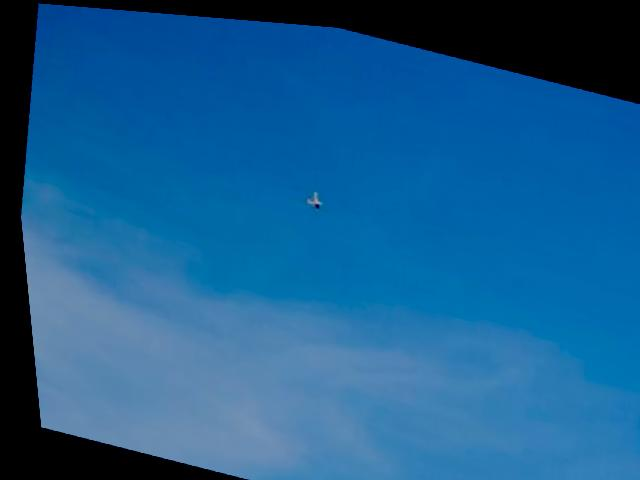uav: (302, 183, 321, 209)
